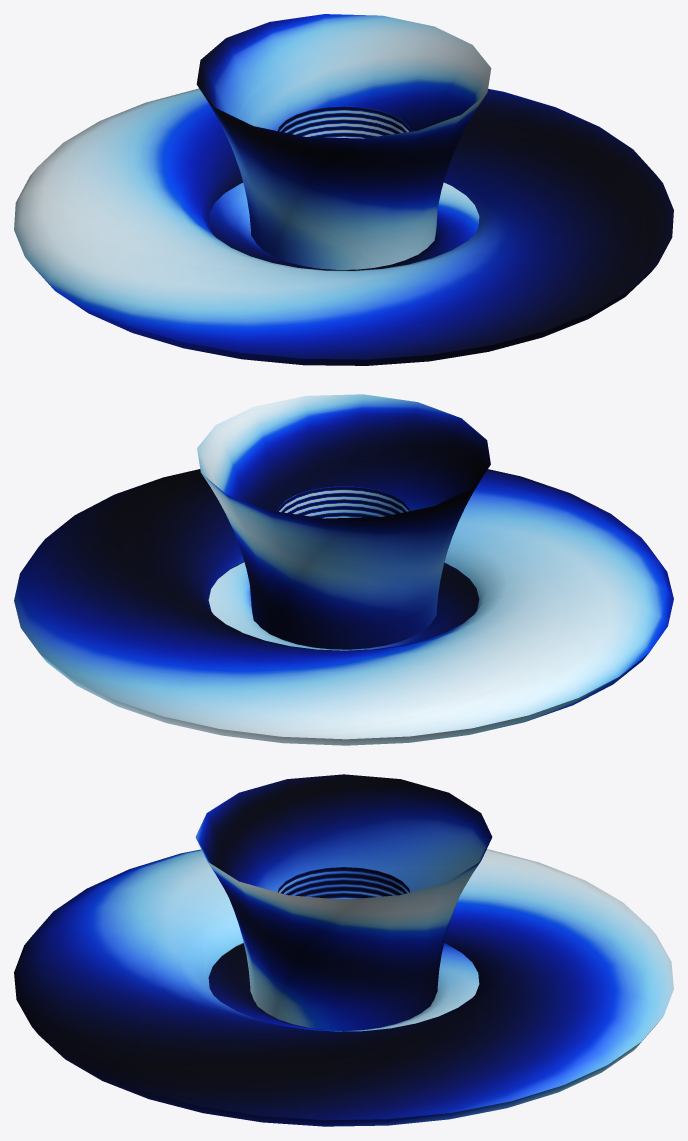
File: Particle-Hologram.fbx
3 renders of one model, top to bottom at view 1: azimuth 30°, elevation 25°; view 2: azimuth 150°, elevation 25°; view 3: azimuth 270°, elevation 25°, orthographic.
Visible parts, largest first — view 1: Torus_1, Cylinder, Torus, Cylinder_1; view 2: Torus_1, Cylinder, Torus, Cylinder_1; view 3: Torus_1, Cylinder, Torus, Cylinder_1.
Part boxes in pixels (x1,y1,x2,y2): Torus_1: (14, 88, 673, 365); Cylinder: (196, 14, 491, 269); Torus: (208, 182, 479, 270); Cylinder_1: (278, 106, 410, 138); Torus_1: (14, 469, 673, 745); Cylinder: (197, 394, 490, 649); Torus: (208, 562, 479, 650); Cylinder_1: (278, 486, 409, 518); Torus_1: (14, 849, 673, 1126); Cylinder: (195, 774, 492, 1030); Torus: (208, 943, 479, 1031); Cylinder_1: (278, 867, 409, 899).
Size of the model in its own units: 353 by 104 by 353.
2 materials, 2 textured.
